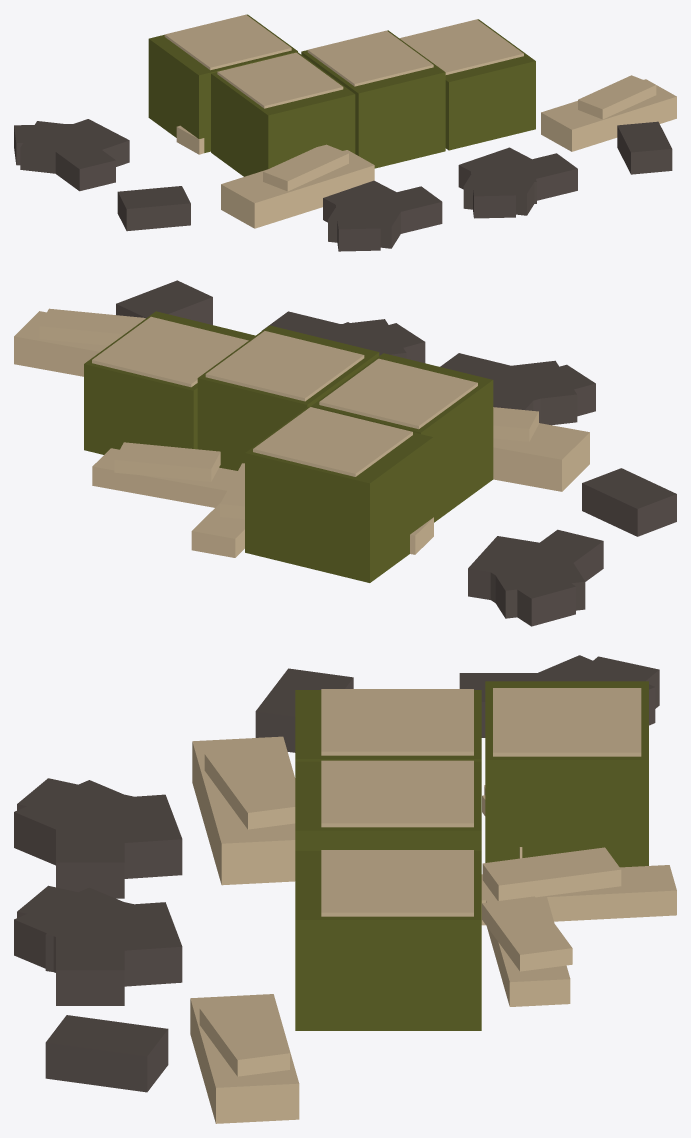
The model's file is SM_HescoRemate_v1_Geotextil_e2_MuyDanado_LOD1.fbx.
3 views of the same model, one above another, from view 1: azimuth 30°, elevation 25°; view 2: azimuth 150°, elevation 25°; view 3: azimuth 270°, elevation 25° (orthographic). The views are drawn at different scales.
Visible parts, largest first — view 1: SM_hesco_piezas_v26_LOD1; view 2: SM_hesco_piezas_v26_LOD1; view 3: SM_hesco_piezas_v26_LOD1.
Boxes of the visible parts, left/top/right/bottom form: SM_hesco_piezas_v26_LOD1: left=14, top=14, right=676, bottom=251; SM_hesco_piezas_v26_LOD1: left=14, top=280, right=676, bottom=626; SM_hesco_piezas_v26_LOD1: left=14, top=655, right=676, bottom=1123.
Bounding box in the file's own units: 6.71 × 0.9603 × 4.34.
